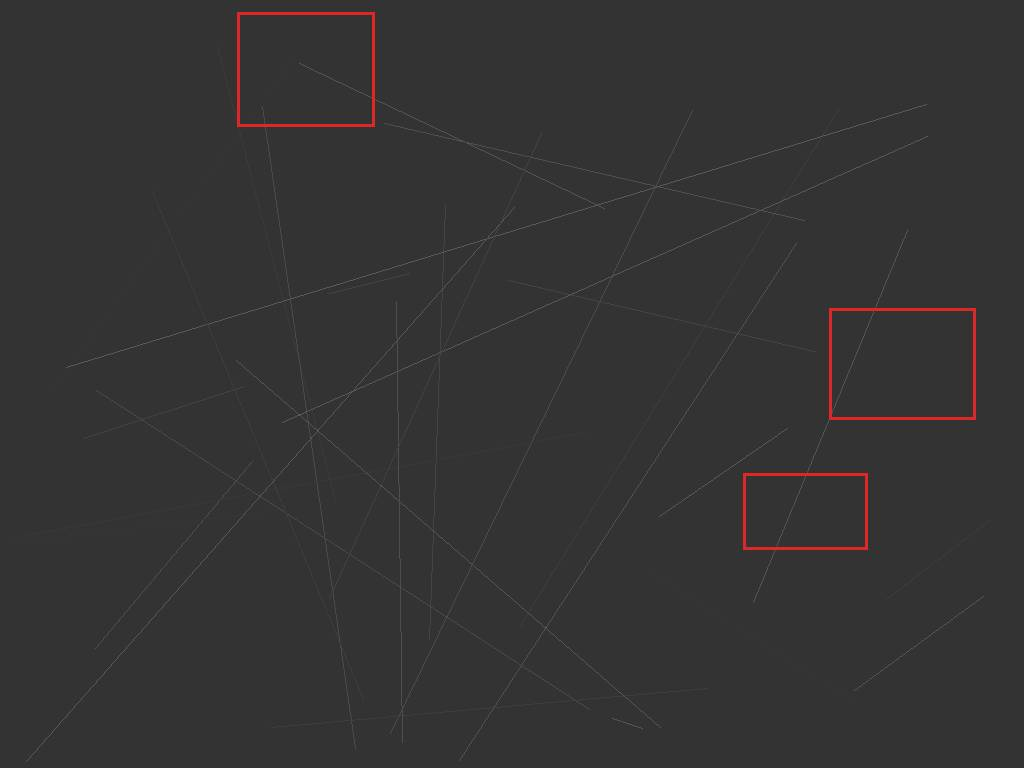D40: (829, 308, 975, 419), (237, 12, 374, 126), (743, 473, 867, 549)
